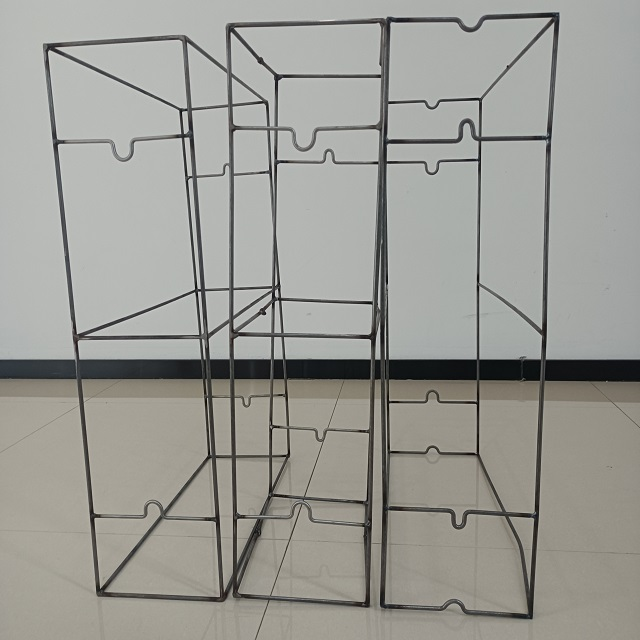curvedhole: (444, 112, 495, 150), (276, 493, 321, 533), (99, 131, 149, 166), (440, 499, 485, 536), (279, 118, 325, 154), (449, 8, 497, 41), (131, 494, 173, 528), (433, 591, 480, 620), (413, 382, 453, 412), (413, 153, 450, 183), (408, 94, 456, 117), (311, 144, 346, 172), (414, 434, 447, 461), (210, 157, 241, 182), (229, 388, 260, 409)
